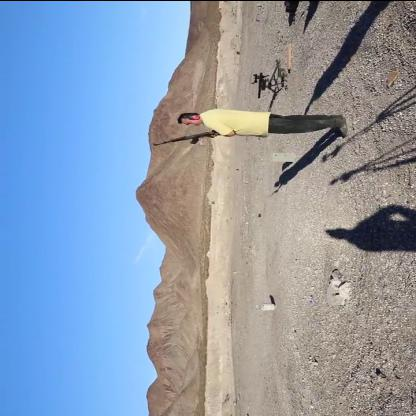long weapon: (148, 126, 228, 156), (238, 66, 286, 102)
